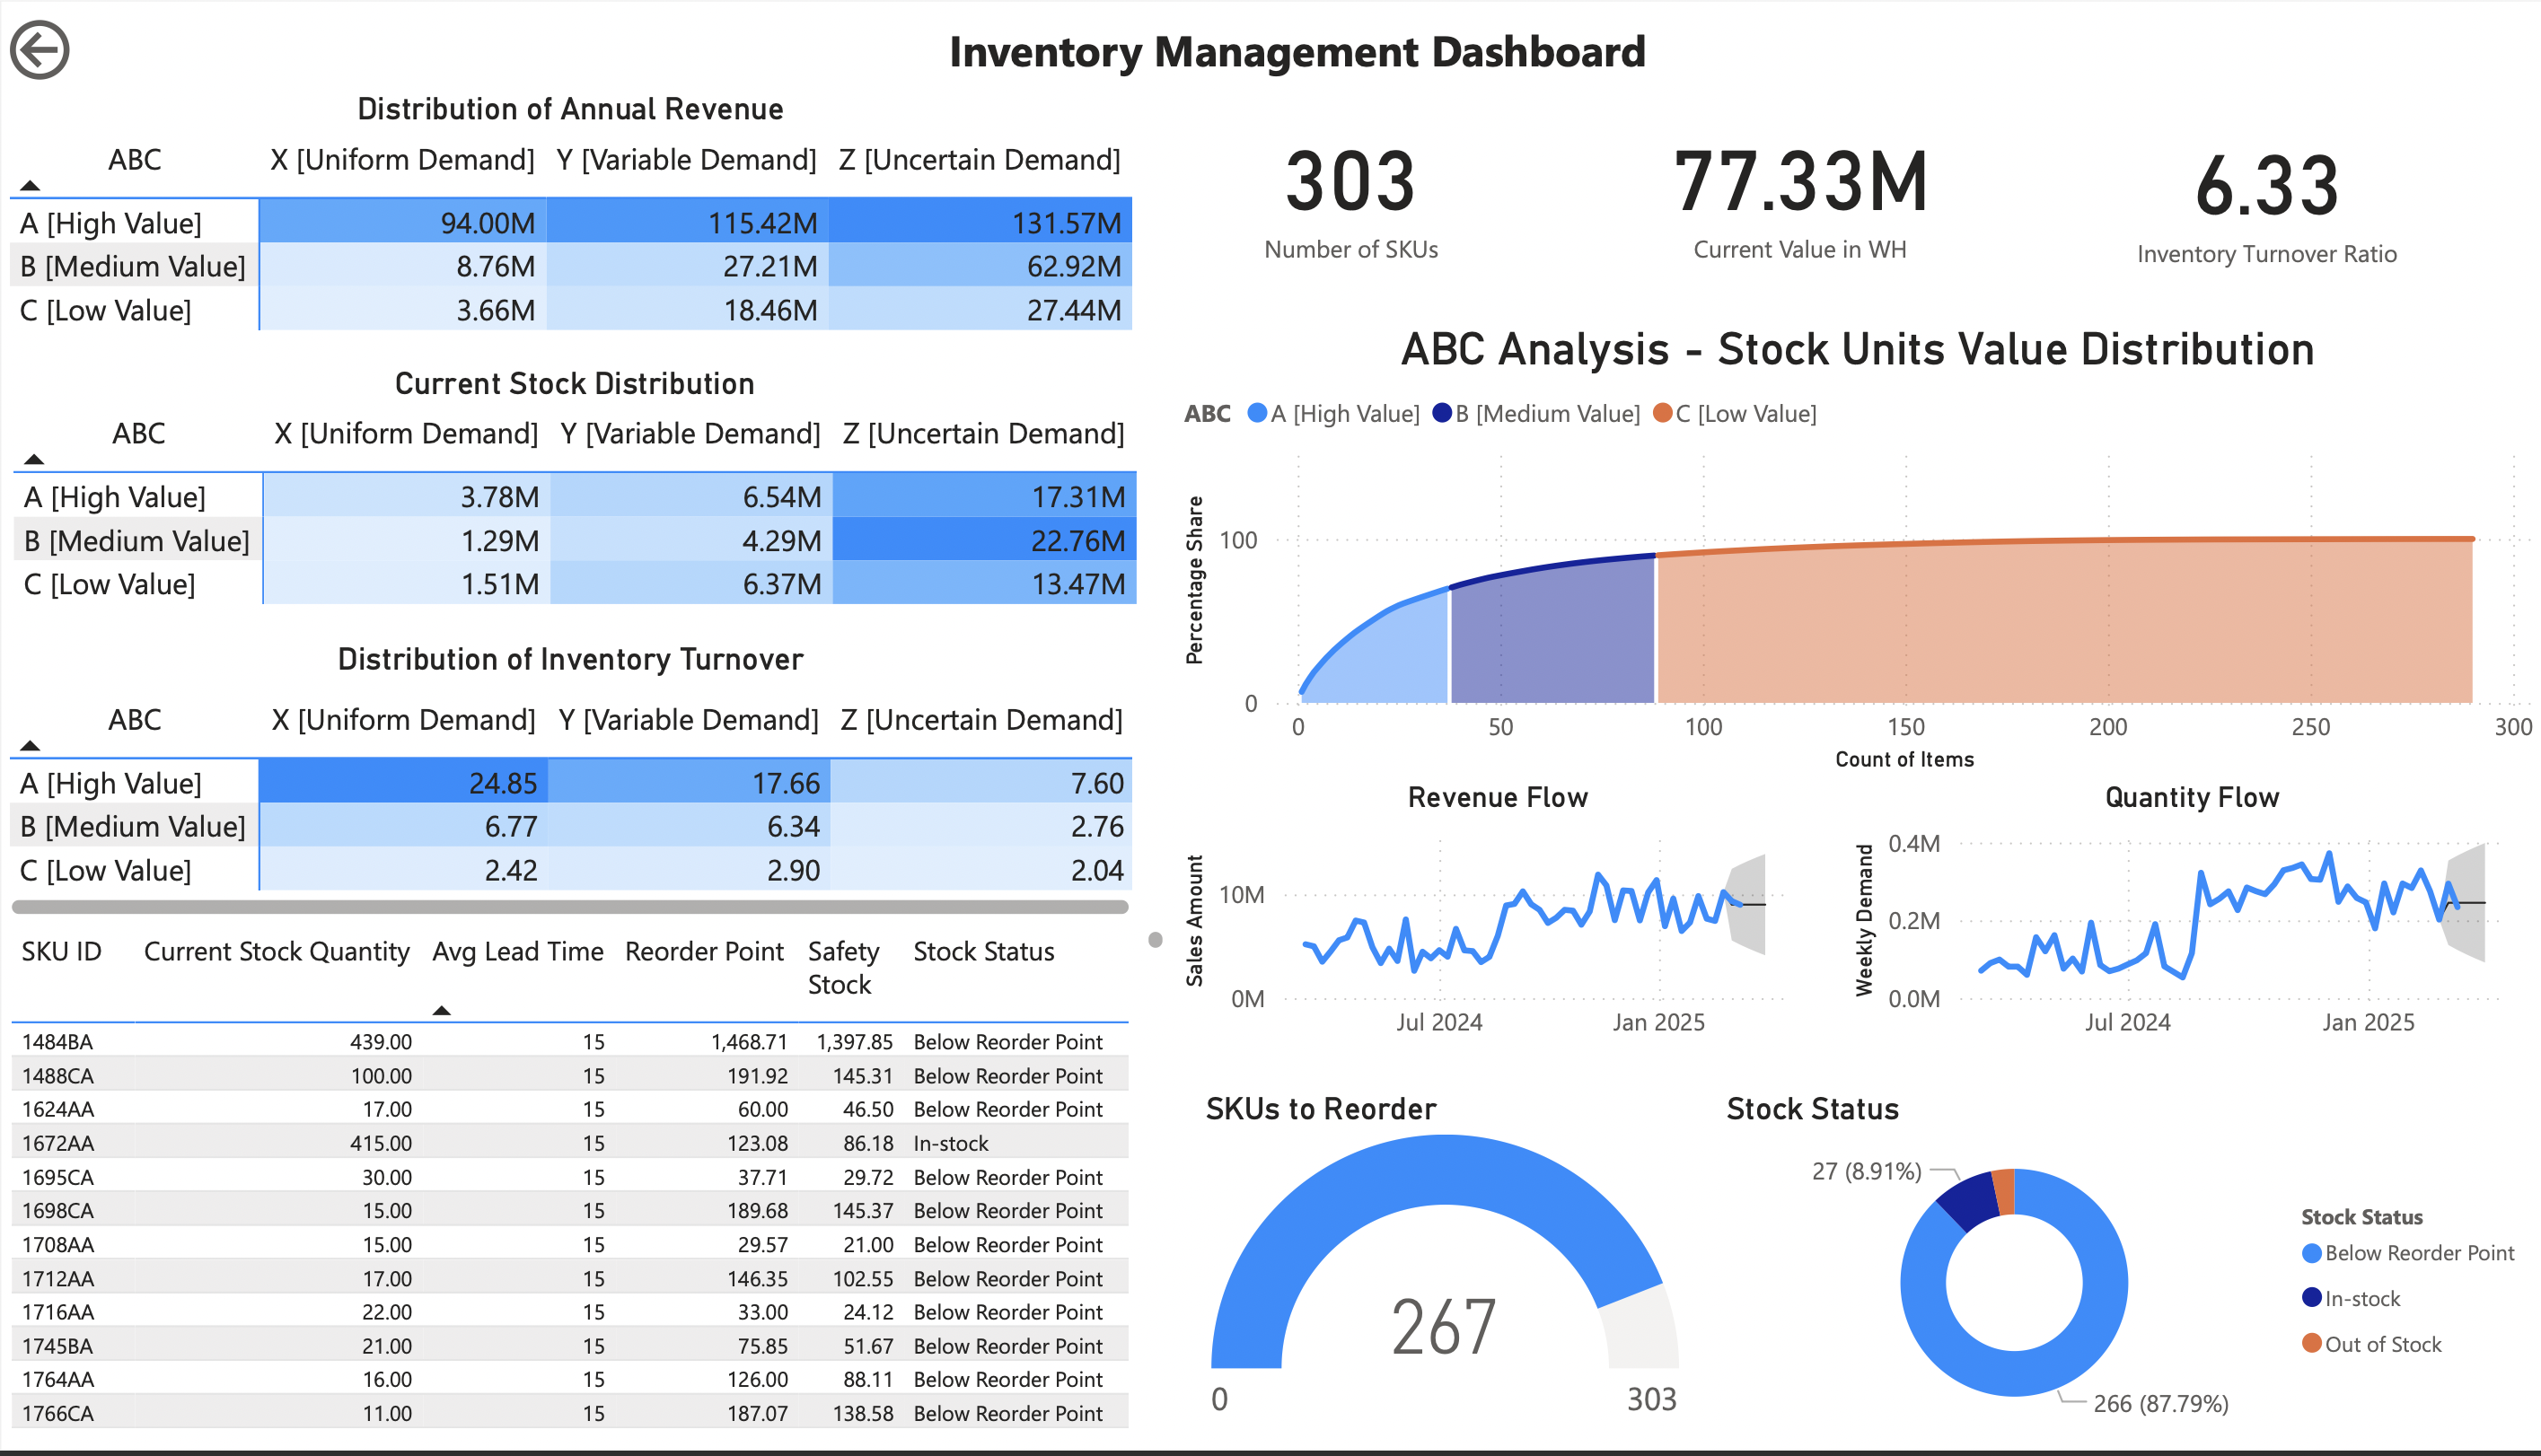

What the dashboard file says about the page in this screenshot:
{"tool":"powerbi","page":{"name":"Page 1","canvas":[1280,720],"ordinal":0},"visuals":[{"type":"areaChart","title":"ABC Analysis - Stock Units Value Distribution","fields":{"Category":["Stock.ABC rank"],"Y":["Avg(Stock.Cumulative Share)"],"Series":["Stock.ABC"]},"box":[591.3,156.8,688.7,230.8],"z":0},{"type":"pivotTable","title":"Distribution of Annual Revenue","fields":{"Rows":["Stock.ABC"],"Columns":["Stock.XYZ"],"Values":["Sum(Stock.Annual Revenue)"]},"box":[0,39.7,575.1,135.2],"z":1000},{"type":"pivotTable","title":"Current Stock Distribution","fields":{"Rows":["Stock.ABC"],"Columns":["Stock.XYZ"],"Values":["Sum(Stock.Value in WH)"]},"box":[1.8,178.5,575.1,138.8],"z":2000},{"type":"card","fields":{"Values":["Stock.Inventory Turnover Ratio"]},"box":[1024,46.9,234.4,88.3],"z":3000},{"type":"card","fields":{"Values":["Count(Stock.SKU ID)"]},"box":[591.3,45.1,178.5,88.3],"z":4000},{"type":"card","fields":{"Values":["Sum(Stock.Value in WH)"]},"box":[807.7,45.1,196.5,88.3],"z":5000},{"type":"pivotTable","title":"Distribution of Inventory Turnover ","fields":{"Rows":["Stock.ABC"],"Columns":["Stock.XYZ"],"Values":["Stock.Inventory Turnover Ratio"]},"box":[0,317.3,575.1,140.6],"z":6000},{"type":"tableEx","fields":{"Values":["Stock.SKU ID","Stock.Current Stock Quantity","Stock.Average Lead Time (days)","Stock.Reorder Point","Stock.Safety Stock","Stock.Stock Status"]},"box":[0,457.9,591.3,261.4],"z":7000},{"type":"gauge","title":"SKUs to Reorder ","fields":{"Y":["Stock.SKUs to Reorder"],"MaxValue":["CountNonNull(Stock.SKU ID)"]},"box":[602.1,542.6,250.6,176.7],"z":8000},{"type":"donutChart","title":"Stock Status","fields":{"Category":["Stock.Stock Status"],"Y":["CountNonNull(Stock.SKU ID)"]},"box":[863.5,542.6,416.5,176.7],"z":9000},{"type":"actionButton","box":[0,0,100,40],"z":10000},{"type":"lineChart","title":"Revenue Flow","fields":{"Category":["Weekly Demand Sheet.week"],"Y":["Sum(Weekly Demand Sheet.Sales Amount)"]},"box":[591.3,387.6,326.3,138.8],"z":11000},{"type":"lineChart","title":"Quantity Flow","fields":{"Y":["Sum(Weekly Demand Sheet.Weekly Demand)"],"Category":["Weekly Demand Sheet.week"]},"box":[928.5,387.6,351.5,138.8],"z":12000},{"type":"textbox","box":[189.3,0,928.5,39.7],"z":12001}]}

Visuals, with their boxes in screenshot pixels (x1, y1, x2, y2), scaled from the page's 1280x720 canvas onto the 2541x1456 screenshot:
"ABC Analysis - Stock Units Value Distribution" areaChart: <bbox>1174, 317, 2540, 784</bbox>
"Distribution of Annual Revenue" pivotTable: <bbox>0, 80, 1142, 354</bbox>
"Current Stock Distribution" pivotTable: <bbox>4, 361, 1145, 642</bbox>
card - Stock.Inventory Turnover Ratio: <bbox>2033, 95, 2498, 274</bbox>
card - Count(Stock.SKU ID): <bbox>1174, 92, 1528, 270</bbox>
card - Sum(Stock.Value in WH): <bbox>1604, 92, 1993, 270</bbox>
"Distribution of Inventory Turnover " pivotTable: <bbox>0, 642, 1142, 926</bbox>
tableEx - Stock.SKU ID x Stock.Current Stock Quantity: <bbox>0, 926, 1174, 1454</bbox>
"SKUs to Reorder " gauge: <bbox>1195, 1097, 1693, 1454</bbox>
"Stock Status" donutChart: <bbox>1714, 1097, 2540, 1454</bbox>
actionButton: <bbox>0, 0, 198, 81</bbox>
"Revenue Flow" lineChart: <bbox>1174, 784, 1822, 1065</bbox>
"Quantity Flow" lineChart: <bbox>1843, 784, 2540, 1065</bbox>
textbox: <bbox>376, 0, 2219, 80</bbox>
